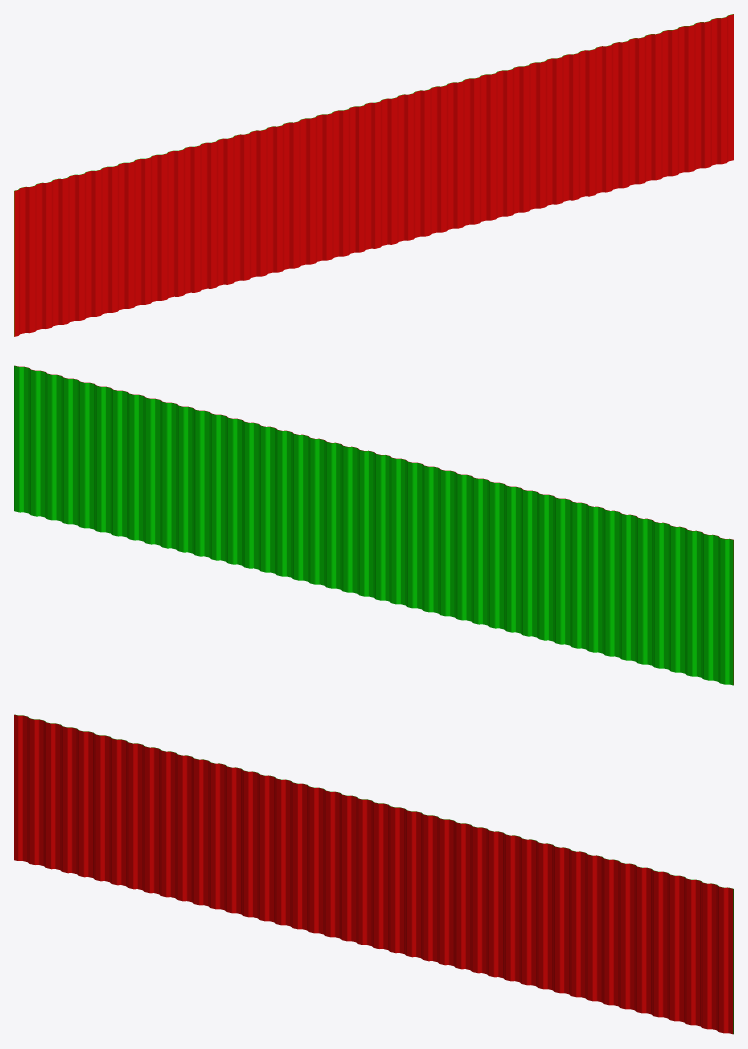
Rendered from exterior_right.glb.
3 views of the same model, one above another, from view 1: azimuth 30°, elevation 25°; view 2: azimuth 150°, elevation 25°; view 3: azimuth 330°, elevation 25° (orthographic).
Visible parts, largest first — view 1: exterior_2, interior_2; view 2: interior_2, exterior_2; view 3: exterior_2, interior_2.
Part boxes in pixels (x1,y1,x2,y2): exterior_2: [14, 14, 733, 336]; interior_2: [14, 14, 733, 336]; interior_2: [14, 365, 733, 685]; exterior_2: [15, 365, 733, 684]; exterior_2: [14, 714, 733, 1034]; interior_2: [15, 714, 733, 1034].
Size of the model in its own units: 11.92 by 2.31 by 0.0452.
